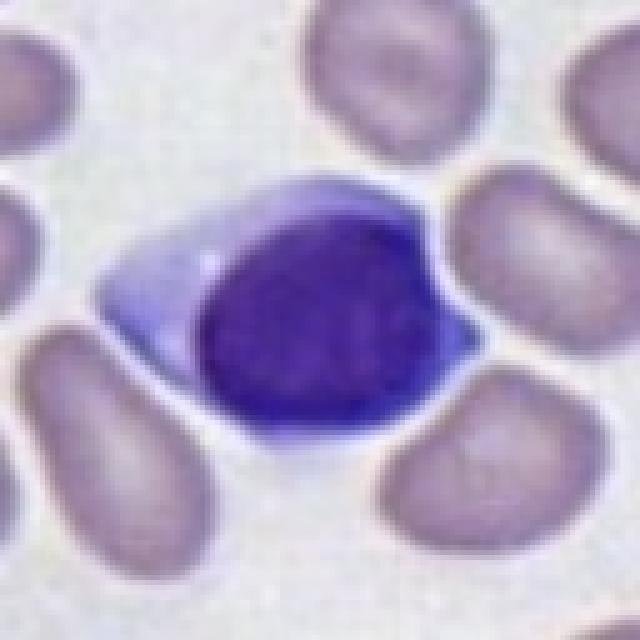lympho: (84, 164, 484, 452)
